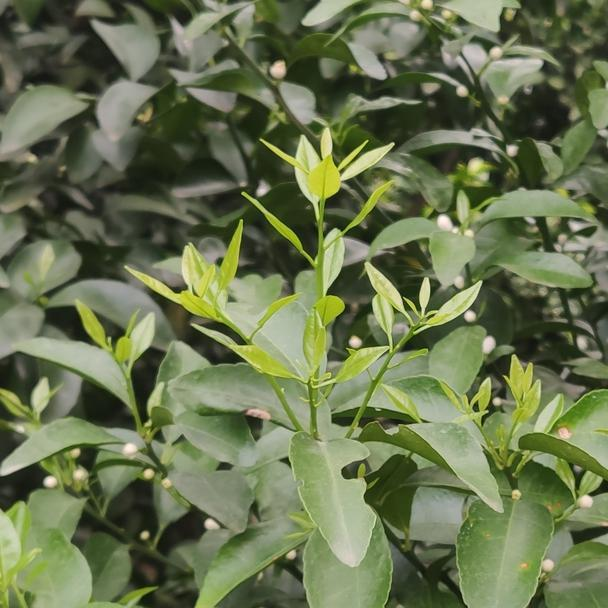shoot: (250, 131, 396, 299), (142, 238, 295, 375), (352, 269, 482, 408), (247, 318, 379, 425), (67, 300, 156, 395)
